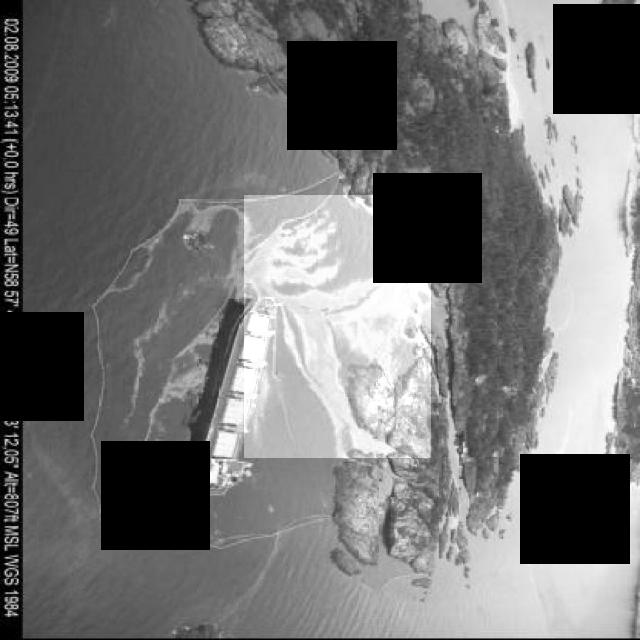oil spill: (245, 195, 431, 458)
